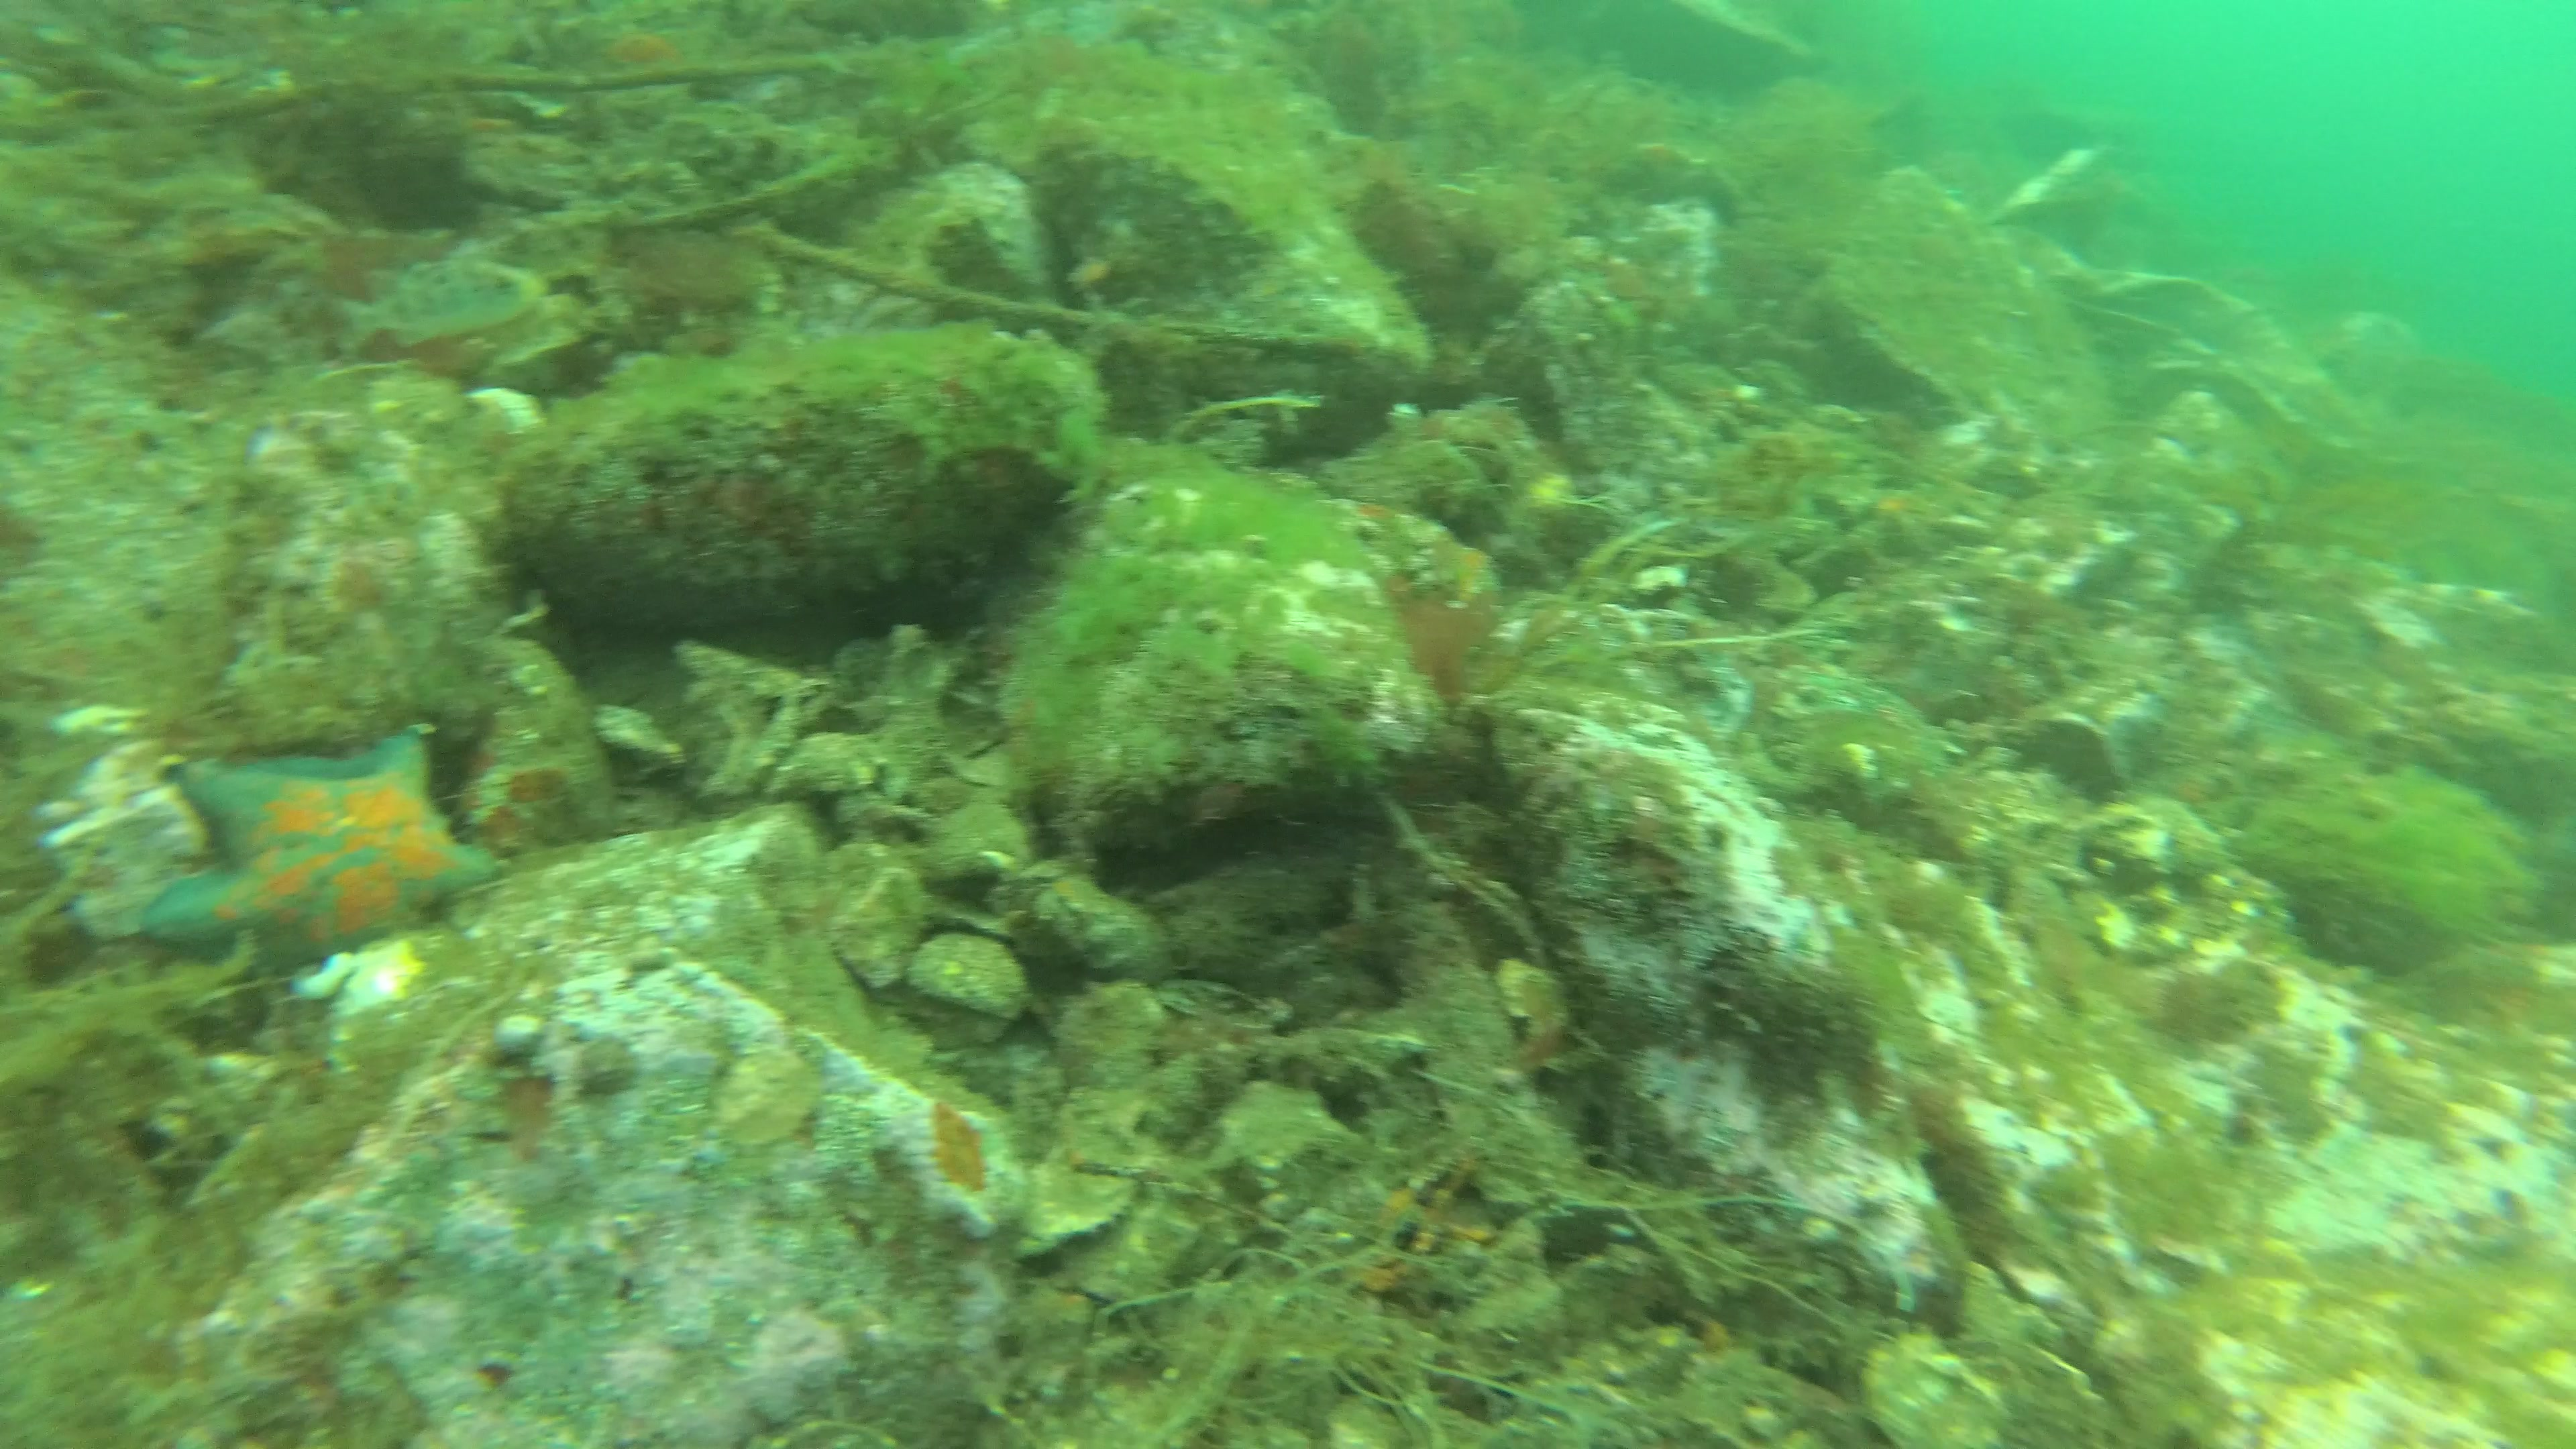starfish: (154, 743, 504, 968)
